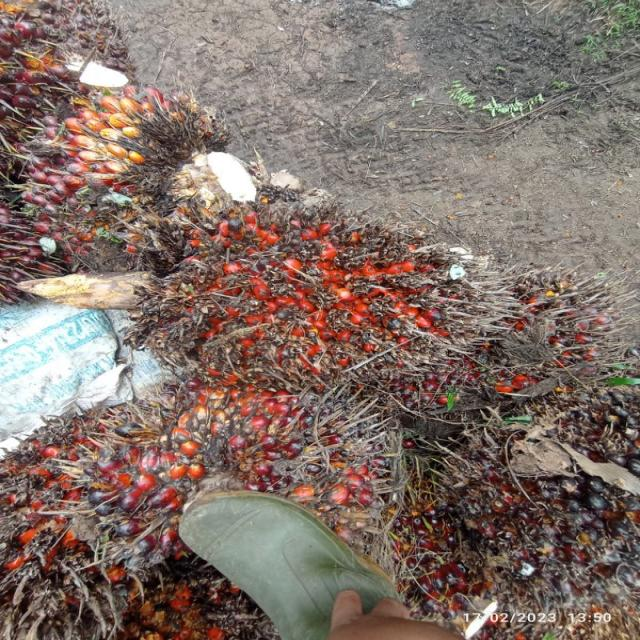fraksi 00: (455, 369, 640, 614)
fraksi 4: (140, 156, 511, 412)
